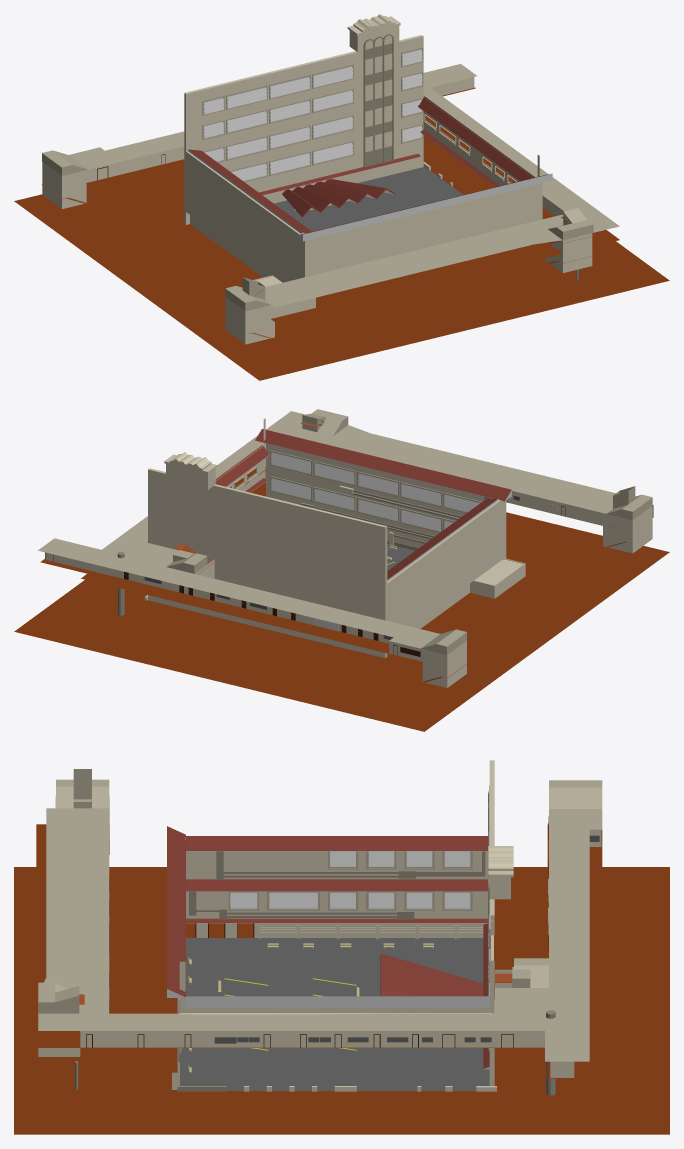
Rendered from 3rd-flr.fbx.
3 views of the same model, one above another, from view 1: azimuth 30°, elevation 25°; view 2: azimuth 150°, elevation 25°; view 3: azimuth 270°, elevation 25° (orthographic). The views are drawn at different scales.
Parts seen in each view (by area): view 1: 3rd flr; view 2: 3rd flr; view 3: 3rd flr.
Boxes of the visible parts, x1,y1,x2,y2 form: 3rd flr: (14, 14, 669, 380); 3rd flr: (14, 409, 669, 731); 3rd flr: (14, 760, 669, 1134).
Bounding box in the file's own units: 16743 × 5983 × 17083.
